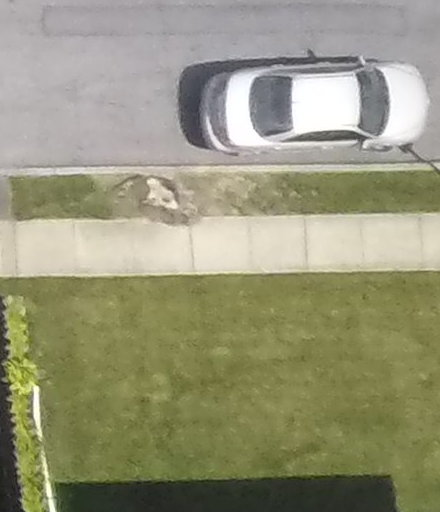car: (194, 41, 436, 170)
